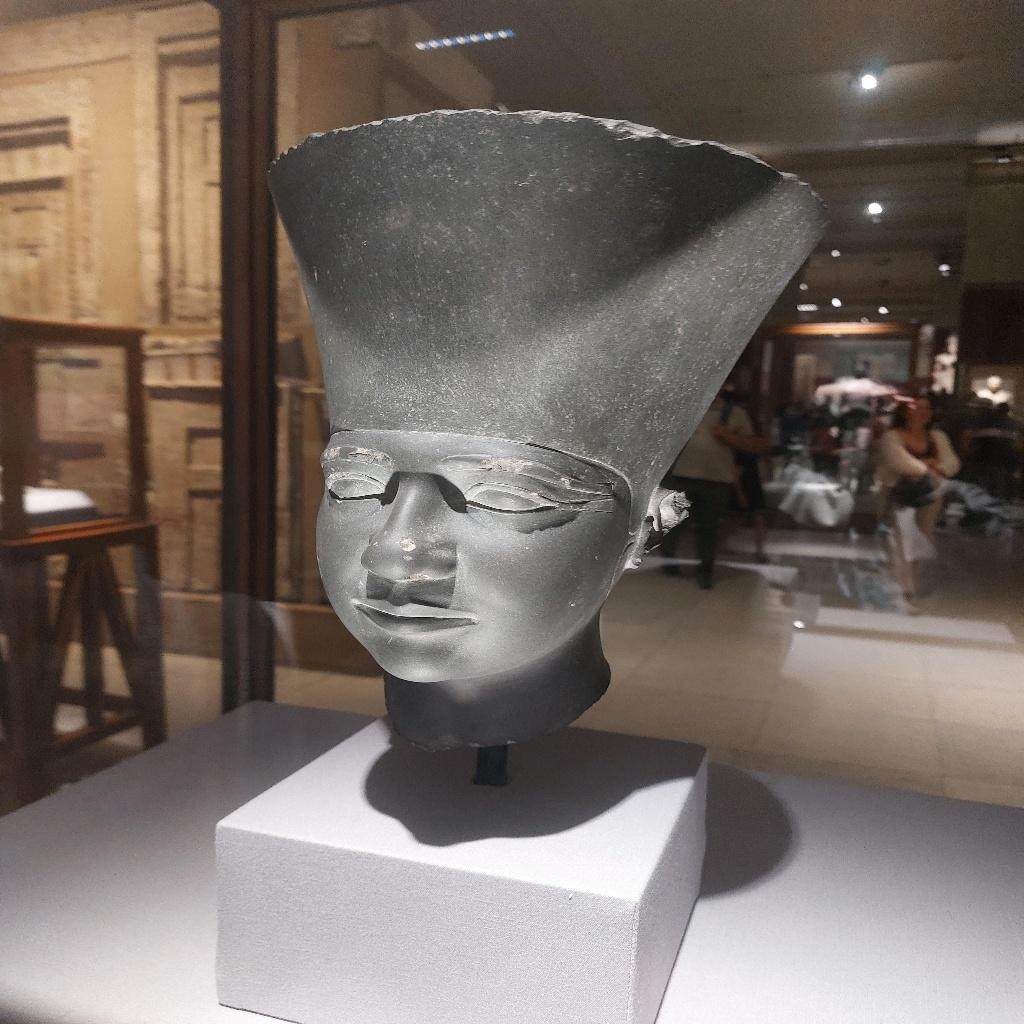Head of Userkaf: (261, 104, 830, 748)
